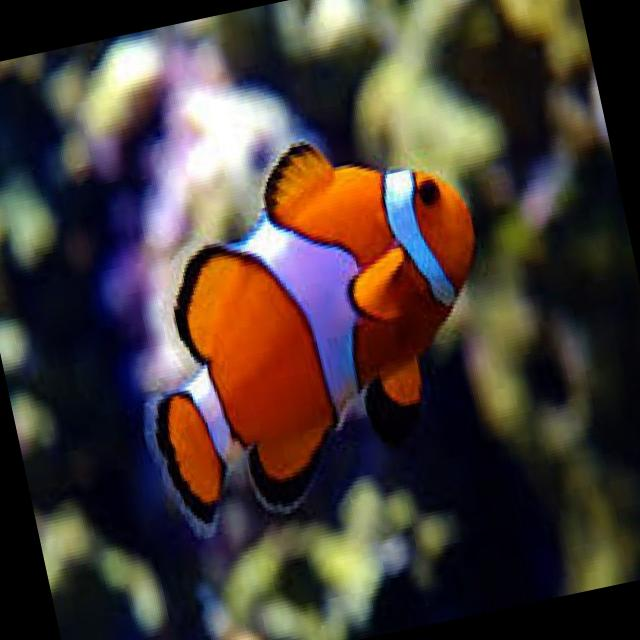ClownFish: (96, 107, 524, 544)
